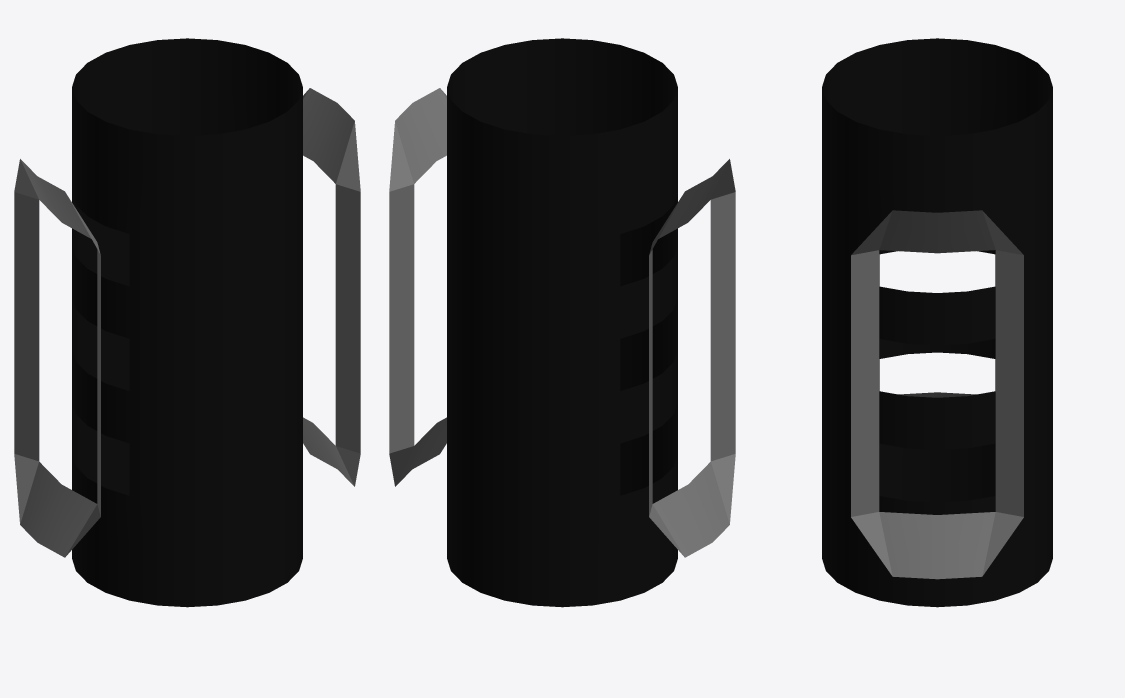
Rendered from Wea_Gun1_off.FBX.
3 renders of one model, left to right at view 1: azimuth 30°, elevation 25°; view 2: azimuth 150°, elevation 25°; view 3: azimuth 270°, elevation 25°, orthographic.
Visible parts, largest first — view 1: Box001; view 2: Box001; view 3: Box001.
Part boxes in pixels (bbox=[...]): Box001: bbox=[14, 38, 360, 607]; Box001: bbox=[389, 38, 735, 607]; Box001: bbox=[822, 38, 1052, 607].
Size of the model in its own units: 0.6 by 1 by 0.6.
